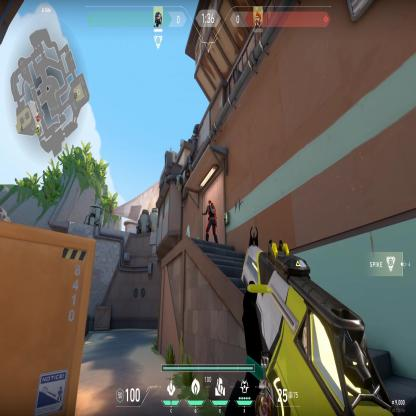enemy: (202, 196, 220, 244)
